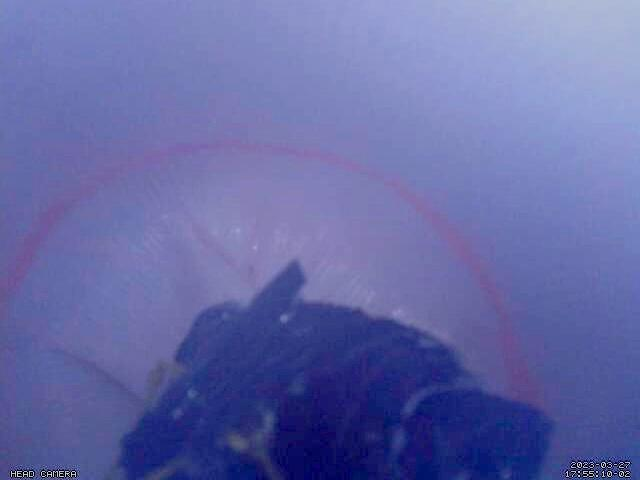head: (0, 139, 545, 410)
